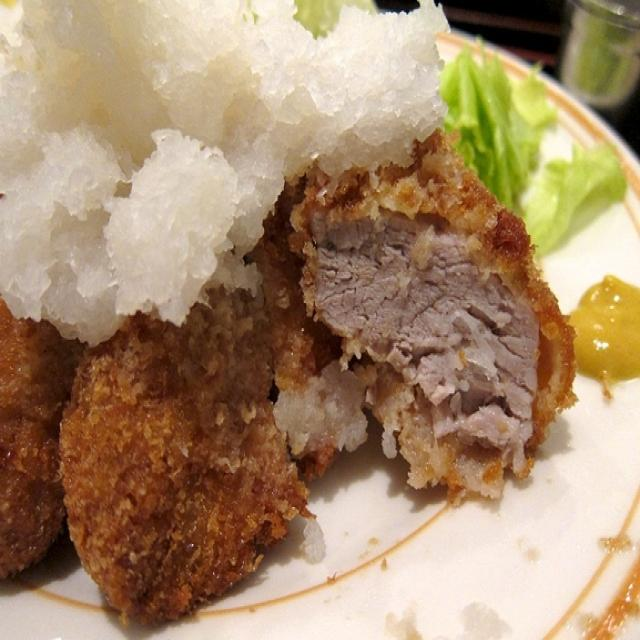牛肉菜式: (8, 21, 611, 634)
